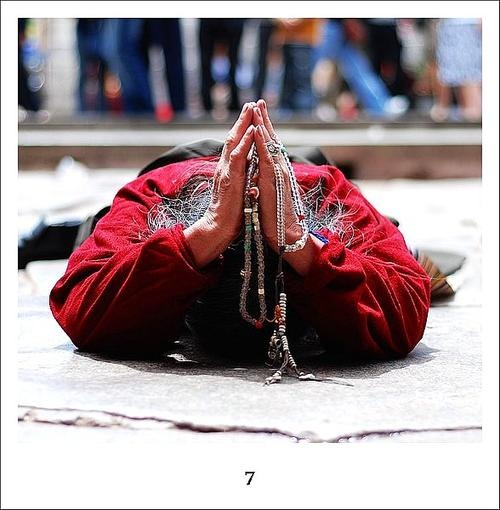falling: (33, 89, 456, 379)
